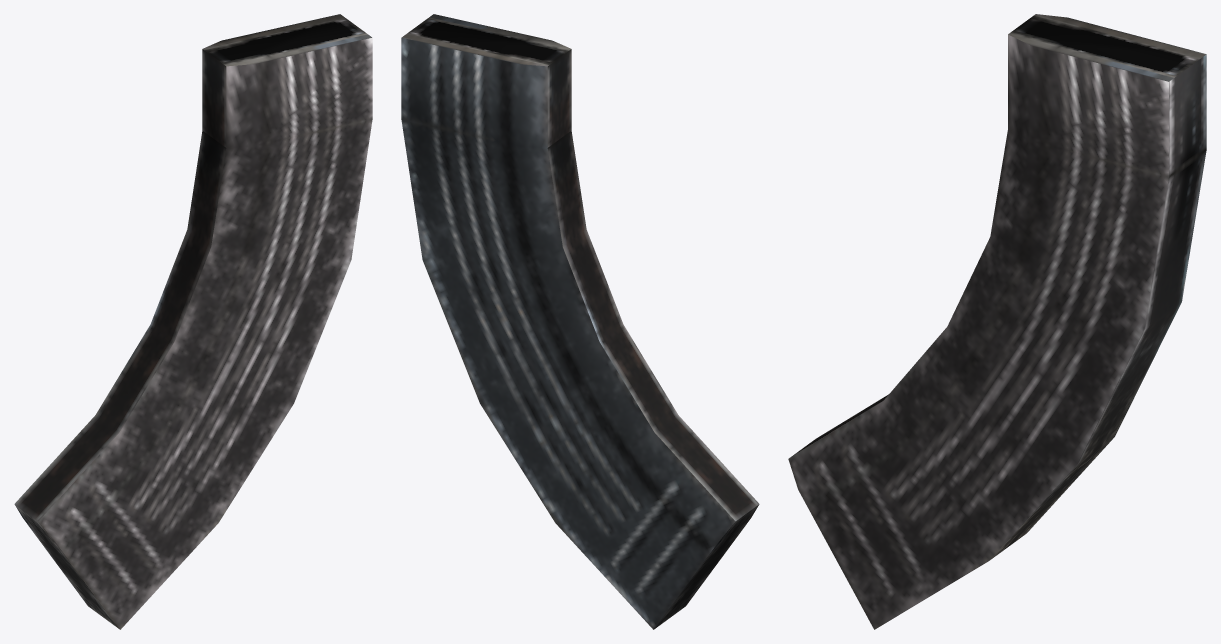
File: AK_Mag.fbx
3 views of the same model, side by side, from view 1: azimuth 30°, elevation 25°; view 2: azimuth 150°, elevation 25°; view 3: azimuth 330°, elevation 25° (orthographic). The views are drawn at different scales.
Parts seen in each view (by area): view 1: AK47_LP.001; view 2: AK47_LP.001; view 3: AK47_LP.001.
Boxes of the visible parts, x1,y1,x2,y2 form: AK47_LP.001: [14, 14, 372, 629]; AK47_LP.001: [401, 14, 759, 629]; AK47_LP.001: [788, 14, 1206, 629].
Bounding box in the file's own units: 0.0911 × 0.0155 × 0.1408.
